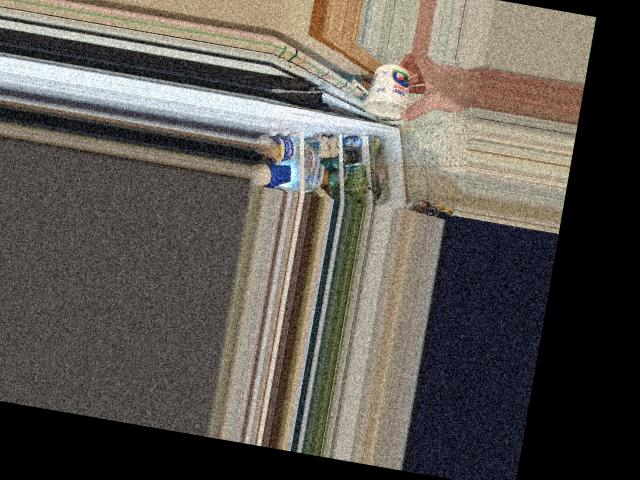cotage: (367, 64, 418, 118)
